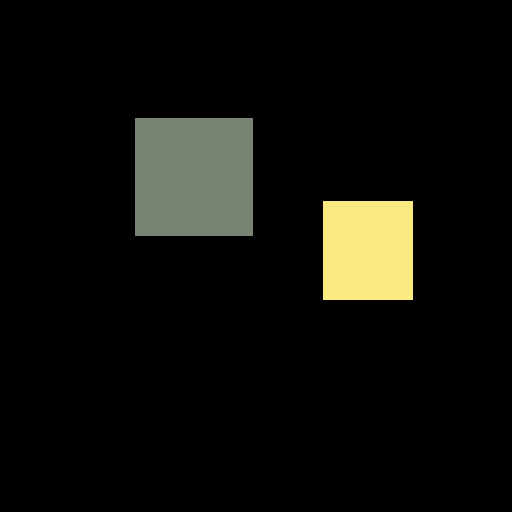square: (135, 118, 252, 235), (323, 201, 412, 299)
